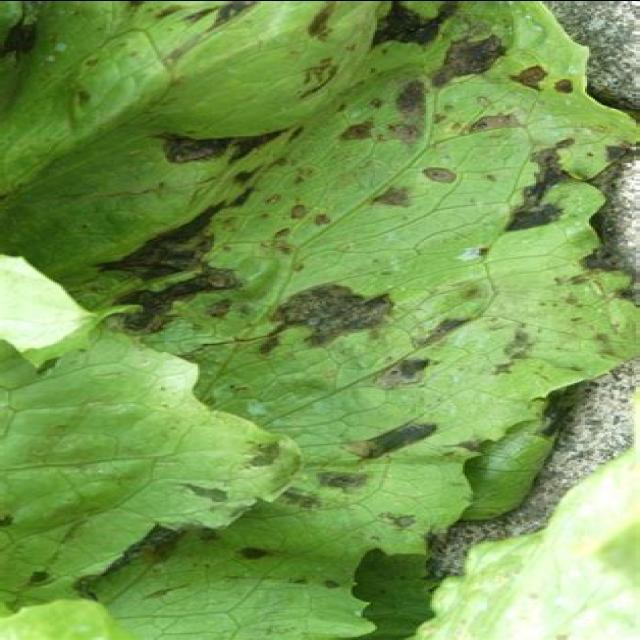Baby: (84, 115, 484, 377)
